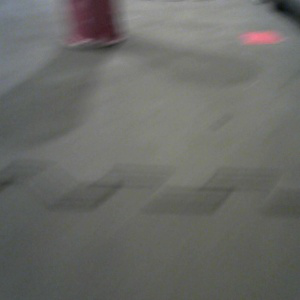Middle: (61, 1, 127, 50)
